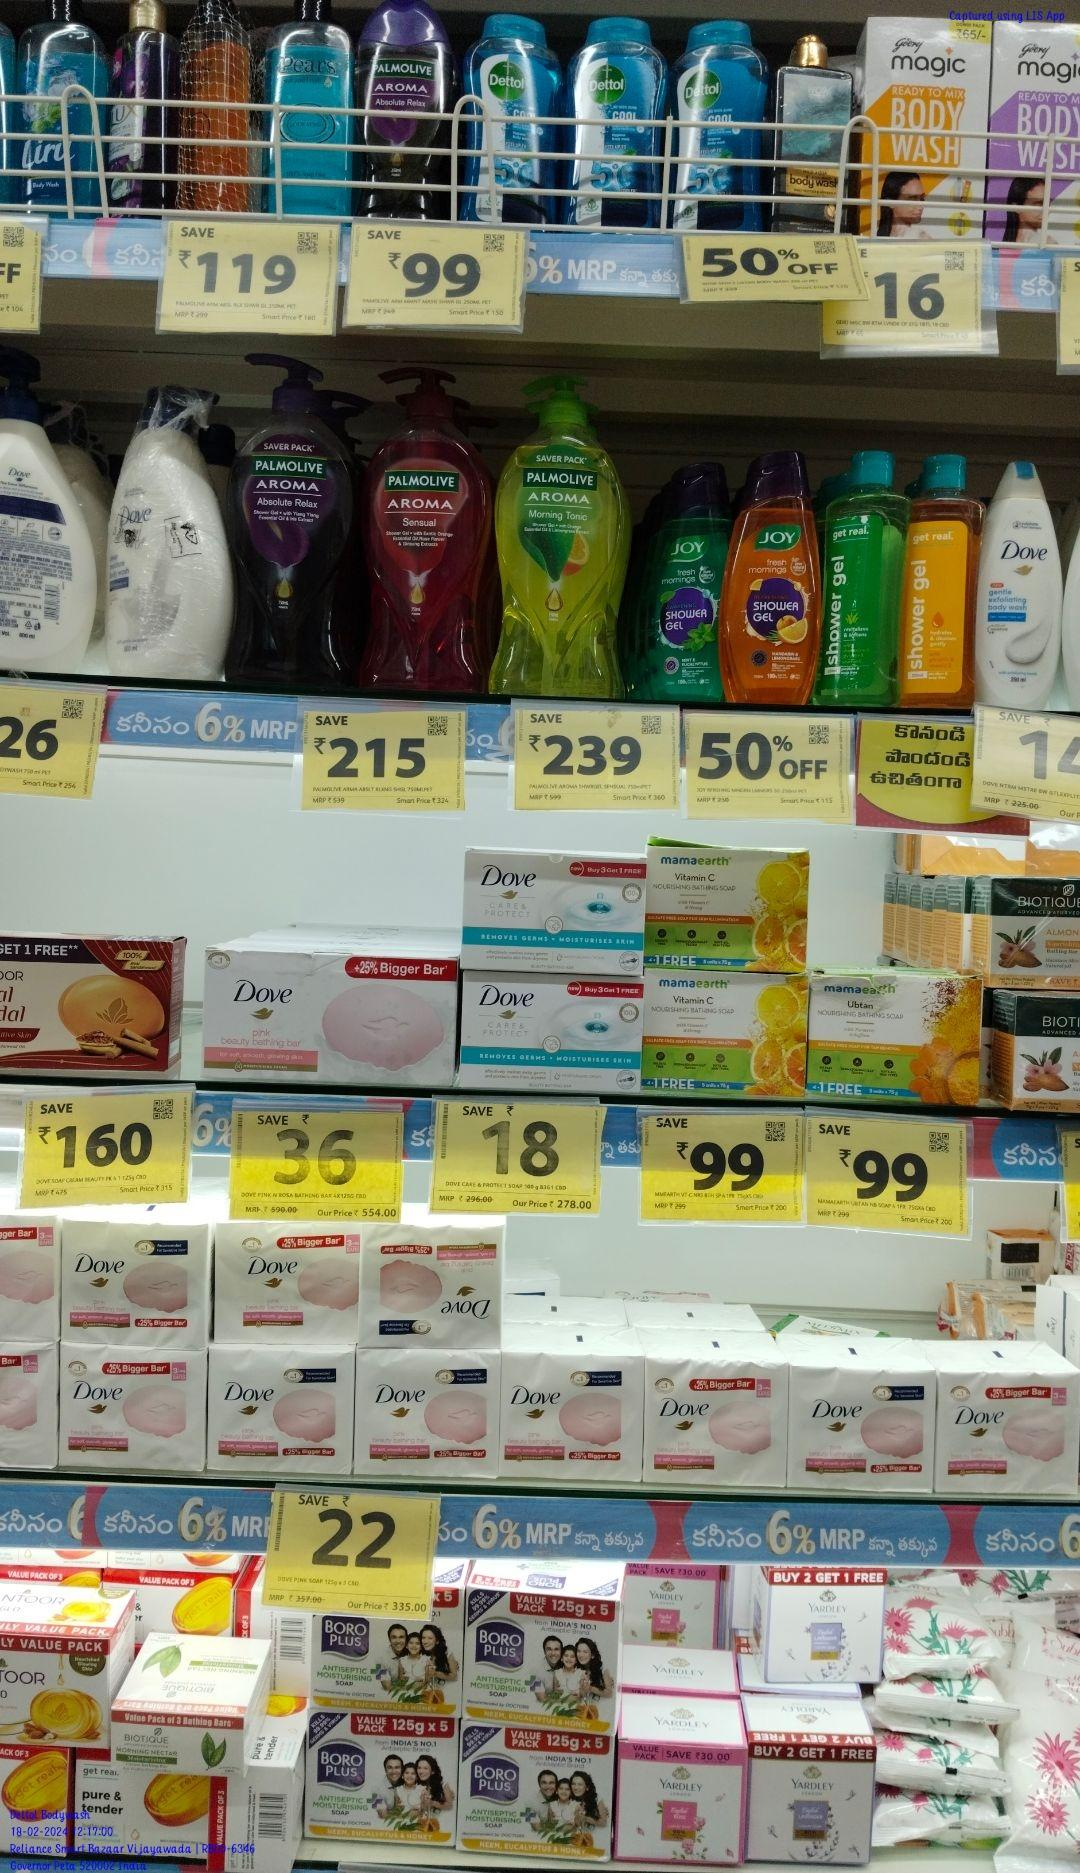Dettol_Bodywash_Cool: (462, 9, 554, 226), (567, 15, 658, 225), (674, 18, 757, 226)
Dove_Gentle_Exfoliating_Body_Wash_250ML: (980, 461, 1056, 709)
Joy_Shower_Gel_Mandarin_and_Lemongrass_250ML: (721, 449, 813, 705)
Joy_Shower_Gel_Mint_and_Eucalyptus_250ML: (642, 463, 717, 699)
Liril_Cooling_Mint_Body_Wash_250ML: (19, 0, 99, 214)
Palmolive_Aroma_Relax_250ML: (355, 0, 446, 219)
